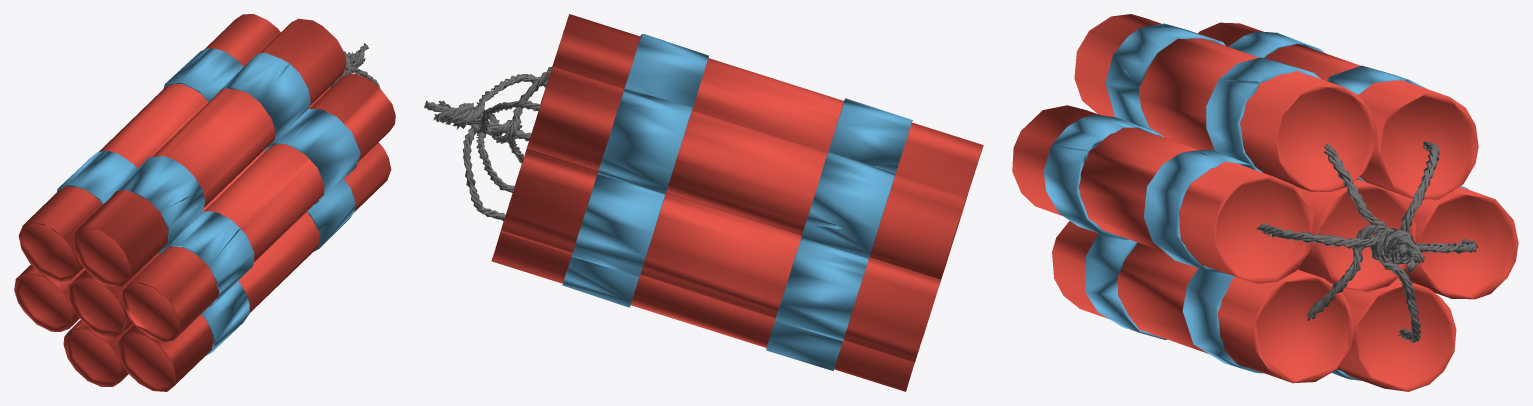
Rendered from bomb.glb.
3 renders of one model, left to right at view 1: azimuth 30°, elevation 25°; view 2: azimuth 150°, elevation 25°; view 3: azimuth 270°, elevation 25°, orthographic. The views are drawn at different scales.
Visible parts, largest first — view 1: wick; view 2: wick; view 3: wick.
Part boxes in pixels (x1,y1,x2,y2): wick: [14, 14, 395, 391]; wick: [424, 14, 983, 391]; wick: [1012, 14, 1518, 391].
Size of the model in its own units: 3.28 by 2.19 by 2.41.
